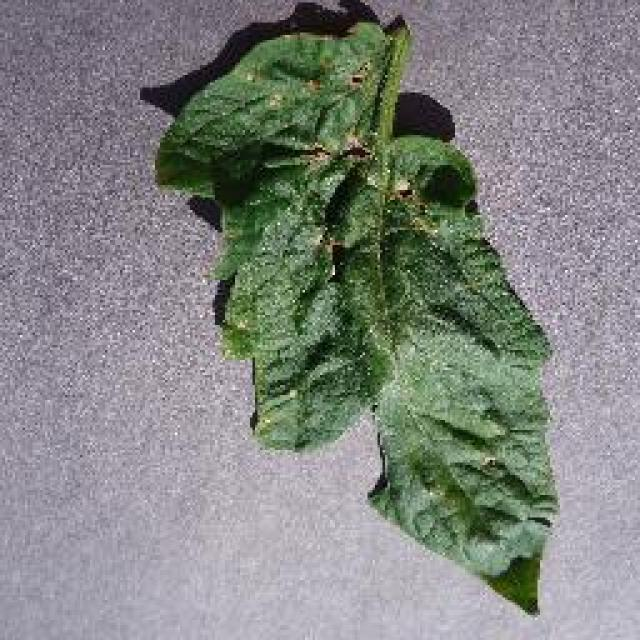Tomato___Target_Spot: (155, 20, 555, 612)
